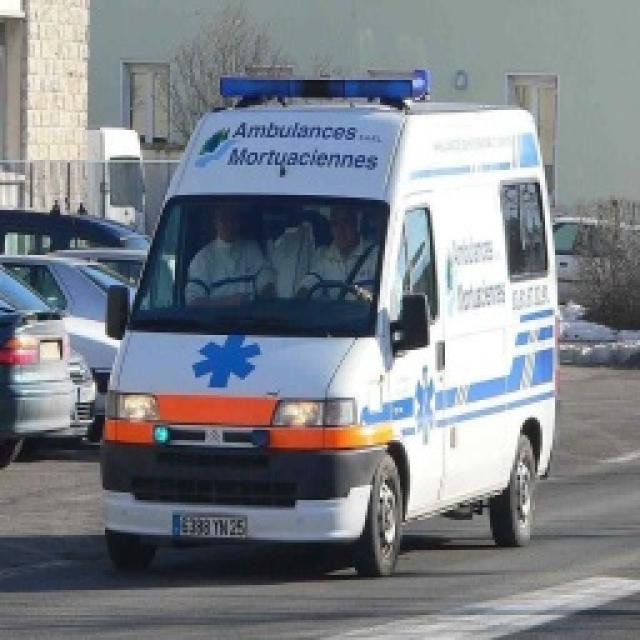emergency-vehicle: (92, 64, 564, 586)
